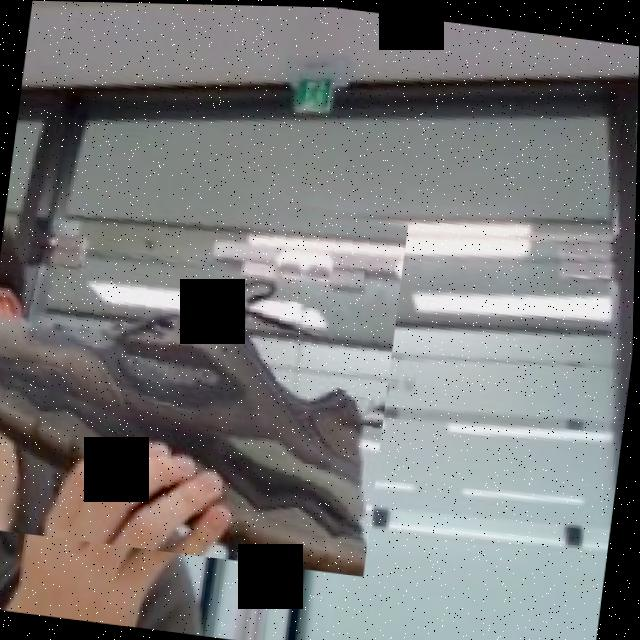shoe: (0, 149, 412, 575)
